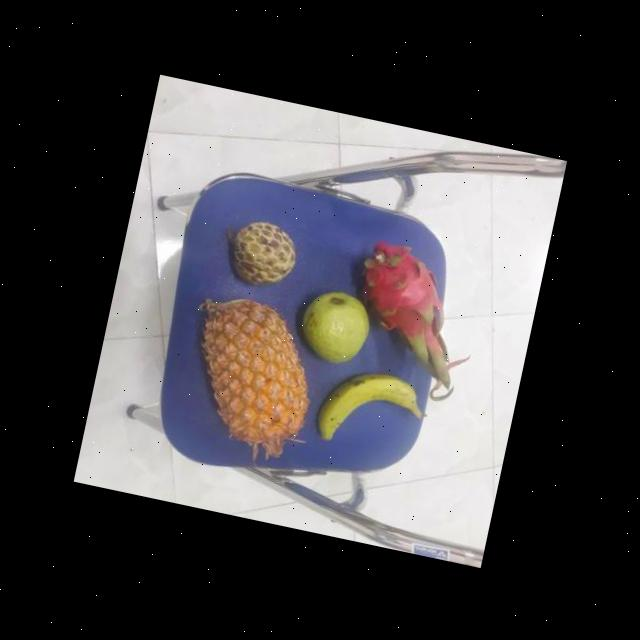Sakya fruit: (222, 214, 302, 292)
banana: (310, 359, 428, 460)
guava: (290, 281, 376, 371)
pineapple: (174, 292, 328, 462)
pitaya: (343, 242, 458, 363)
